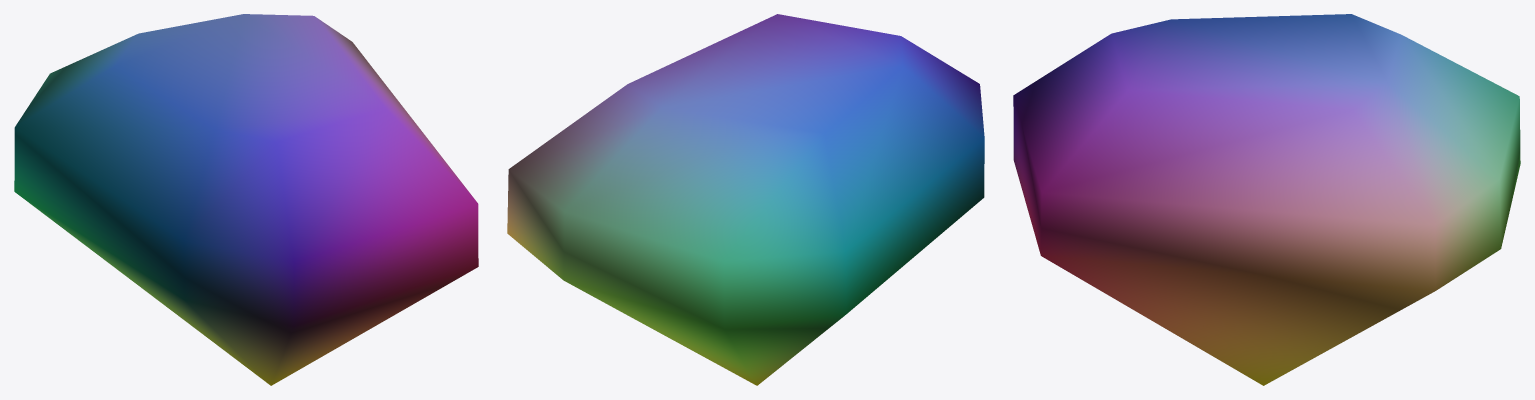
The model's file is SM_Pickup_Gem_Emerald_1.fbx.
3 views of the same model, side by side, from view 1: azimuth 30°, elevation 25°; view 2: azimuth 150°, elevation 25°; view 3: azimuth 270°, elevation 25° (orthographic).
Parts seen in each view (by area): view 1: SM_Pickup_Gem_Emerald_1; view 2: SM_Pickup_Gem_Emerald_1; view 3: SM_Pickup_Gem_Emerald_1.
Boxes of the visible parts, left/top/right/bottom form: SM_Pickup_Gem_Emerald_1: left=14, top=14, right=478, bottom=385; SM_Pickup_Gem_Emerald_1: left=507, top=14, right=984, bottom=385; SM_Pickup_Gem_Emerald_1: left=1013, top=14, right=1520, bottom=385.
Size of the model in its own units: 0.0795 by 0.071 by 0.1018.
